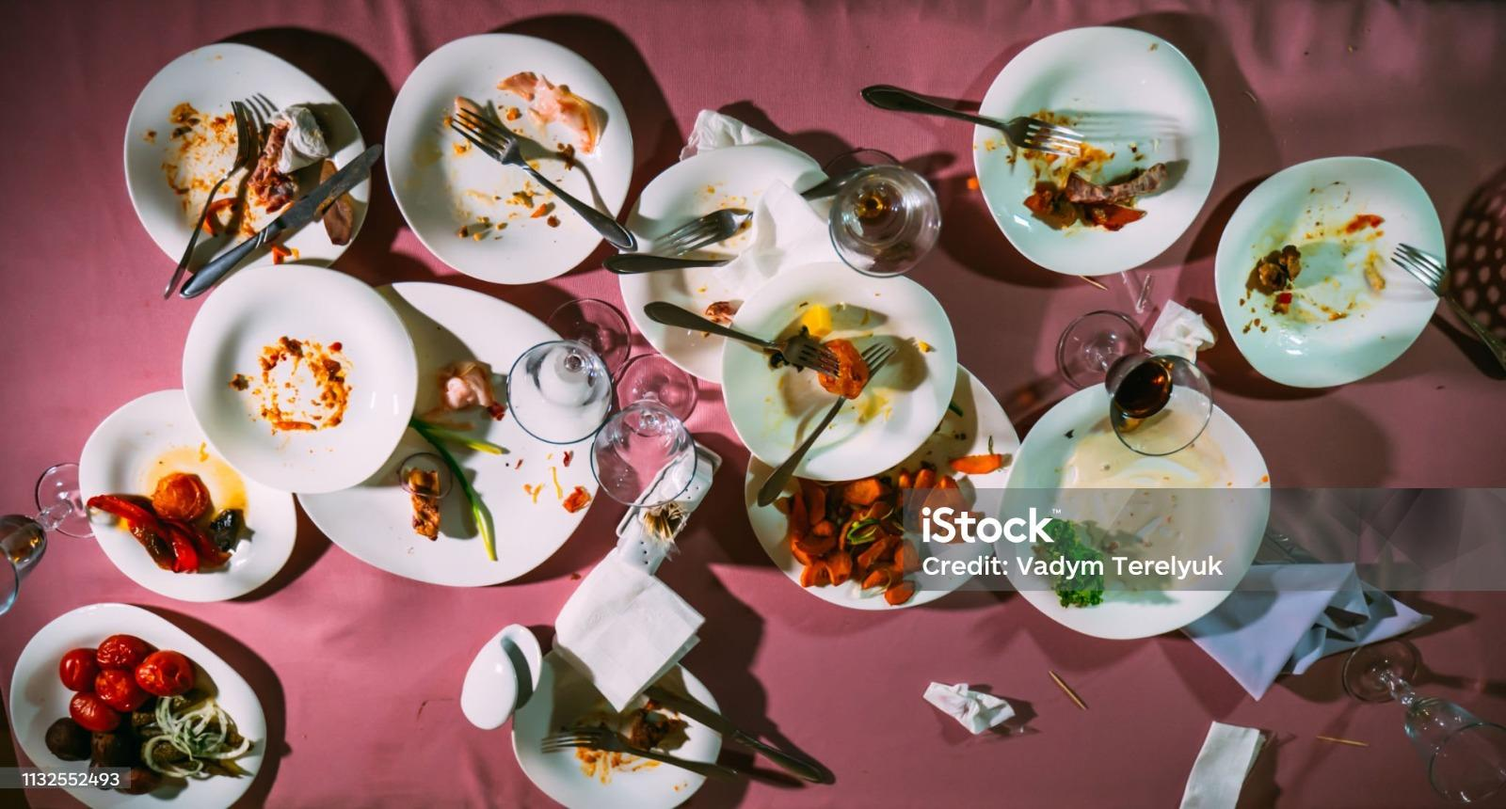Messy Table: (4, 7, 1501, 804)
